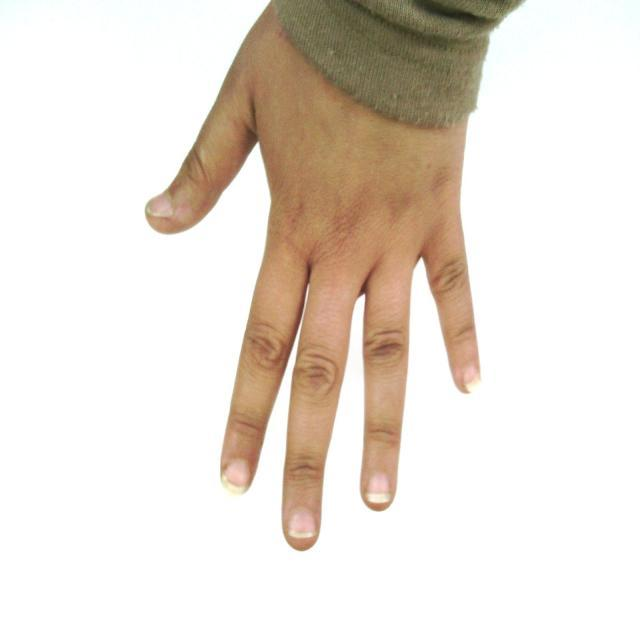Fingernail: (222, 460, 249, 495), (288, 508, 316, 538), (367, 474, 391, 503), (147, 194, 171, 217), (462, 365, 481, 393)
